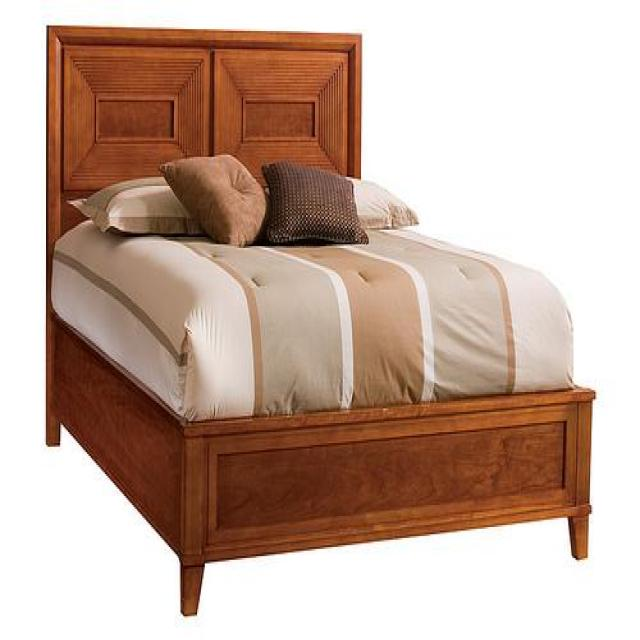bed: (44, 24, 595, 616)
